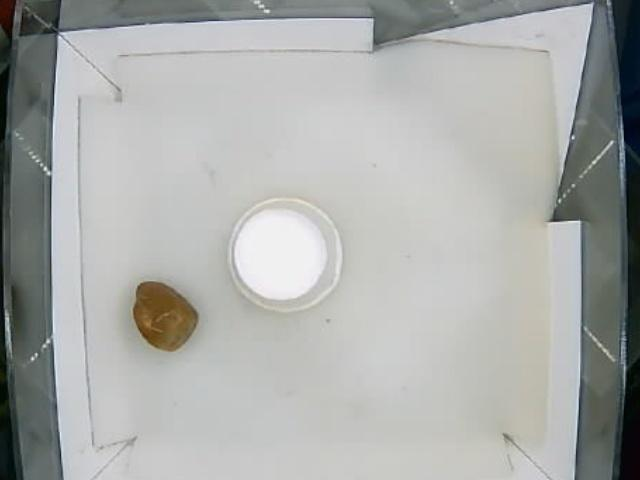Cup: (229, 198, 344, 313)
Pebble: (129, 280, 197, 355)
